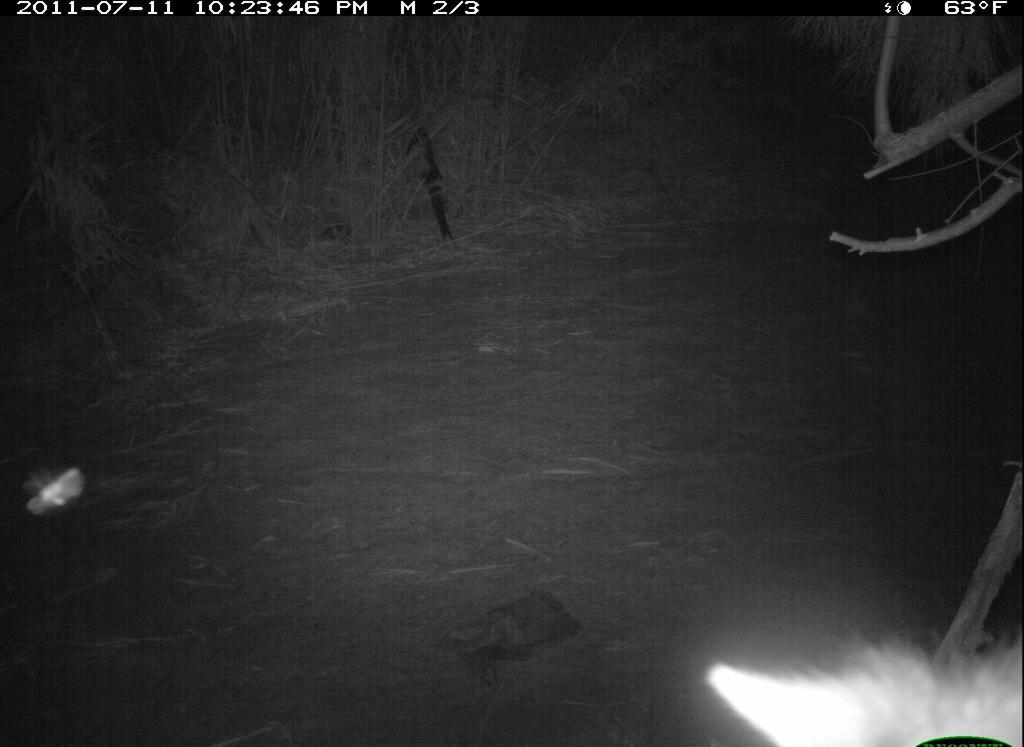raccoon: (693, 625, 1022, 747)
